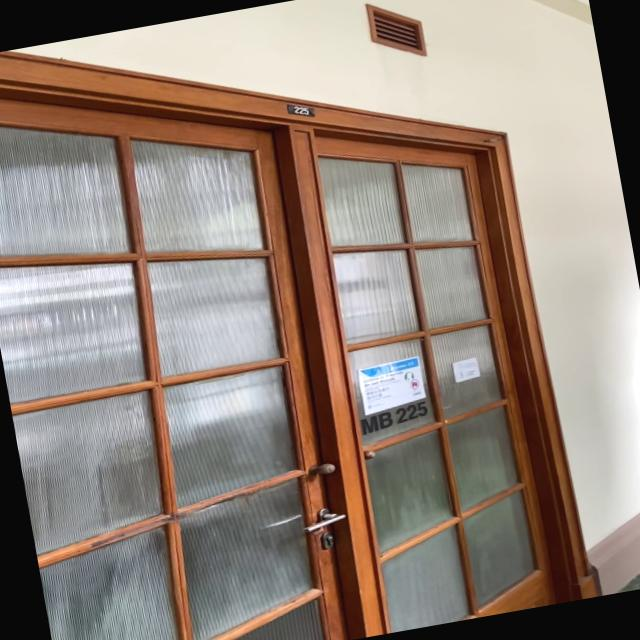room225: (284, 99, 316, 122)
room225Window: (356, 398, 434, 438)
